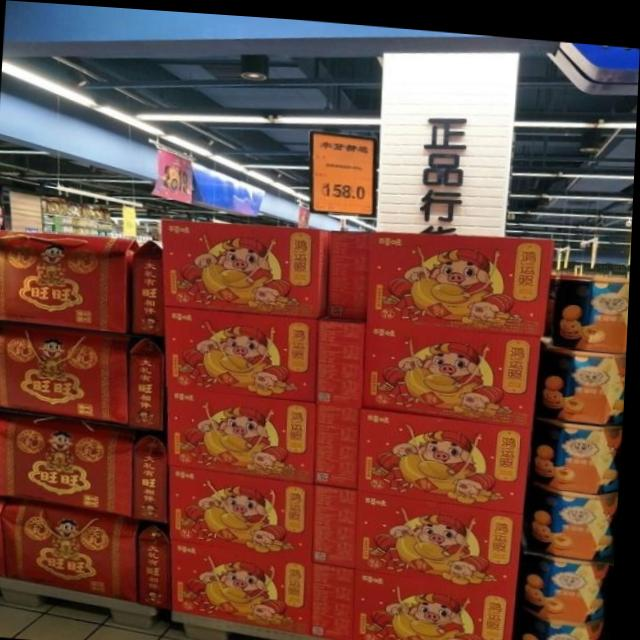box: (368, 226, 553, 327), (366, 315, 542, 420), (363, 403, 534, 507), (359, 485, 527, 587), (164, 217, 330, 314), (168, 383, 320, 479), (166, 303, 320, 397), (0, 229, 140, 330), (173, 460, 319, 556), (0, 502, 143, 597), (0, 416, 138, 514), (175, 538, 317, 630), (0, 324, 131, 422), (357, 564, 522, 640), (520, 530, 619, 616), (538, 328, 629, 418), (527, 466, 622, 551), (532, 405, 625, 485), (553, 266, 632, 344), (518, 589, 616, 640), (318, 311, 368, 403), (319, 397, 364, 482), (328, 226, 370, 313), (318, 479, 361, 563), (128, 335, 166, 427), (317, 556, 360, 636), (133, 238, 165, 334), (138, 432, 171, 520), (142, 525, 172, 606)
